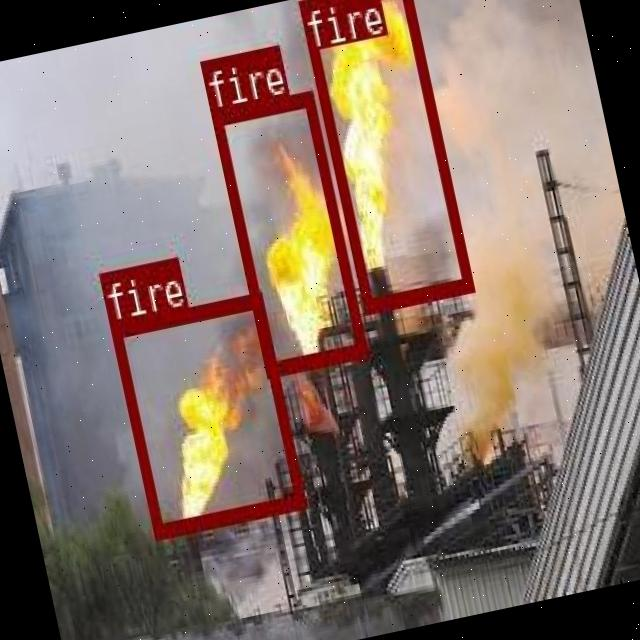fire: (295, 0, 470, 310), (107, 290, 303, 538), (209, 90, 366, 376)
